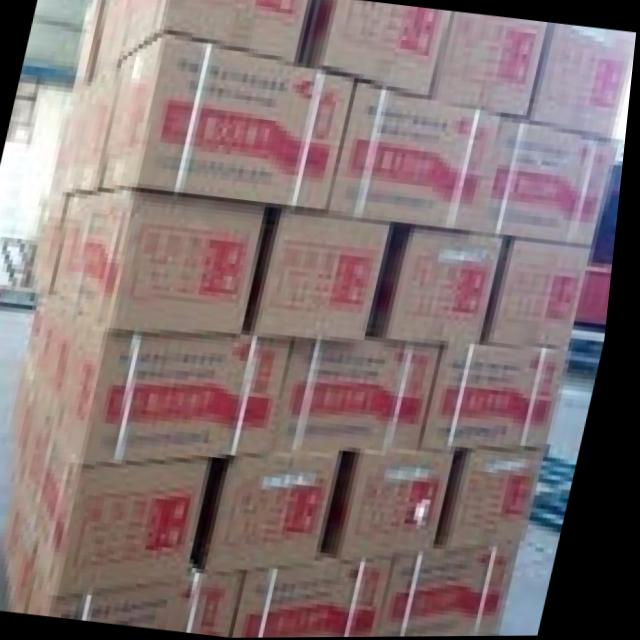box: (97, 34, 356, 214), (62, 310, 303, 467), (42, 429, 223, 599), (325, 79, 507, 232), (81, 191, 270, 335), (252, 207, 395, 345), (280, 337, 446, 451), (479, 114, 626, 241), (93, 0, 316, 82), (36, 562, 251, 637), (375, 226, 508, 345), (217, 450, 348, 569), (431, 345, 576, 448), (299, 0, 446, 100), (246, 553, 409, 638), (337, 451, 460, 563), (528, 24, 637, 144), (392, 546, 531, 637), (434, 15, 552, 120), (486, 235, 596, 347), (443, 445, 556, 553), (53, 67, 118, 194), (38, 295, 81, 429), (24, 388, 60, 544), (54, 191, 101, 310)
